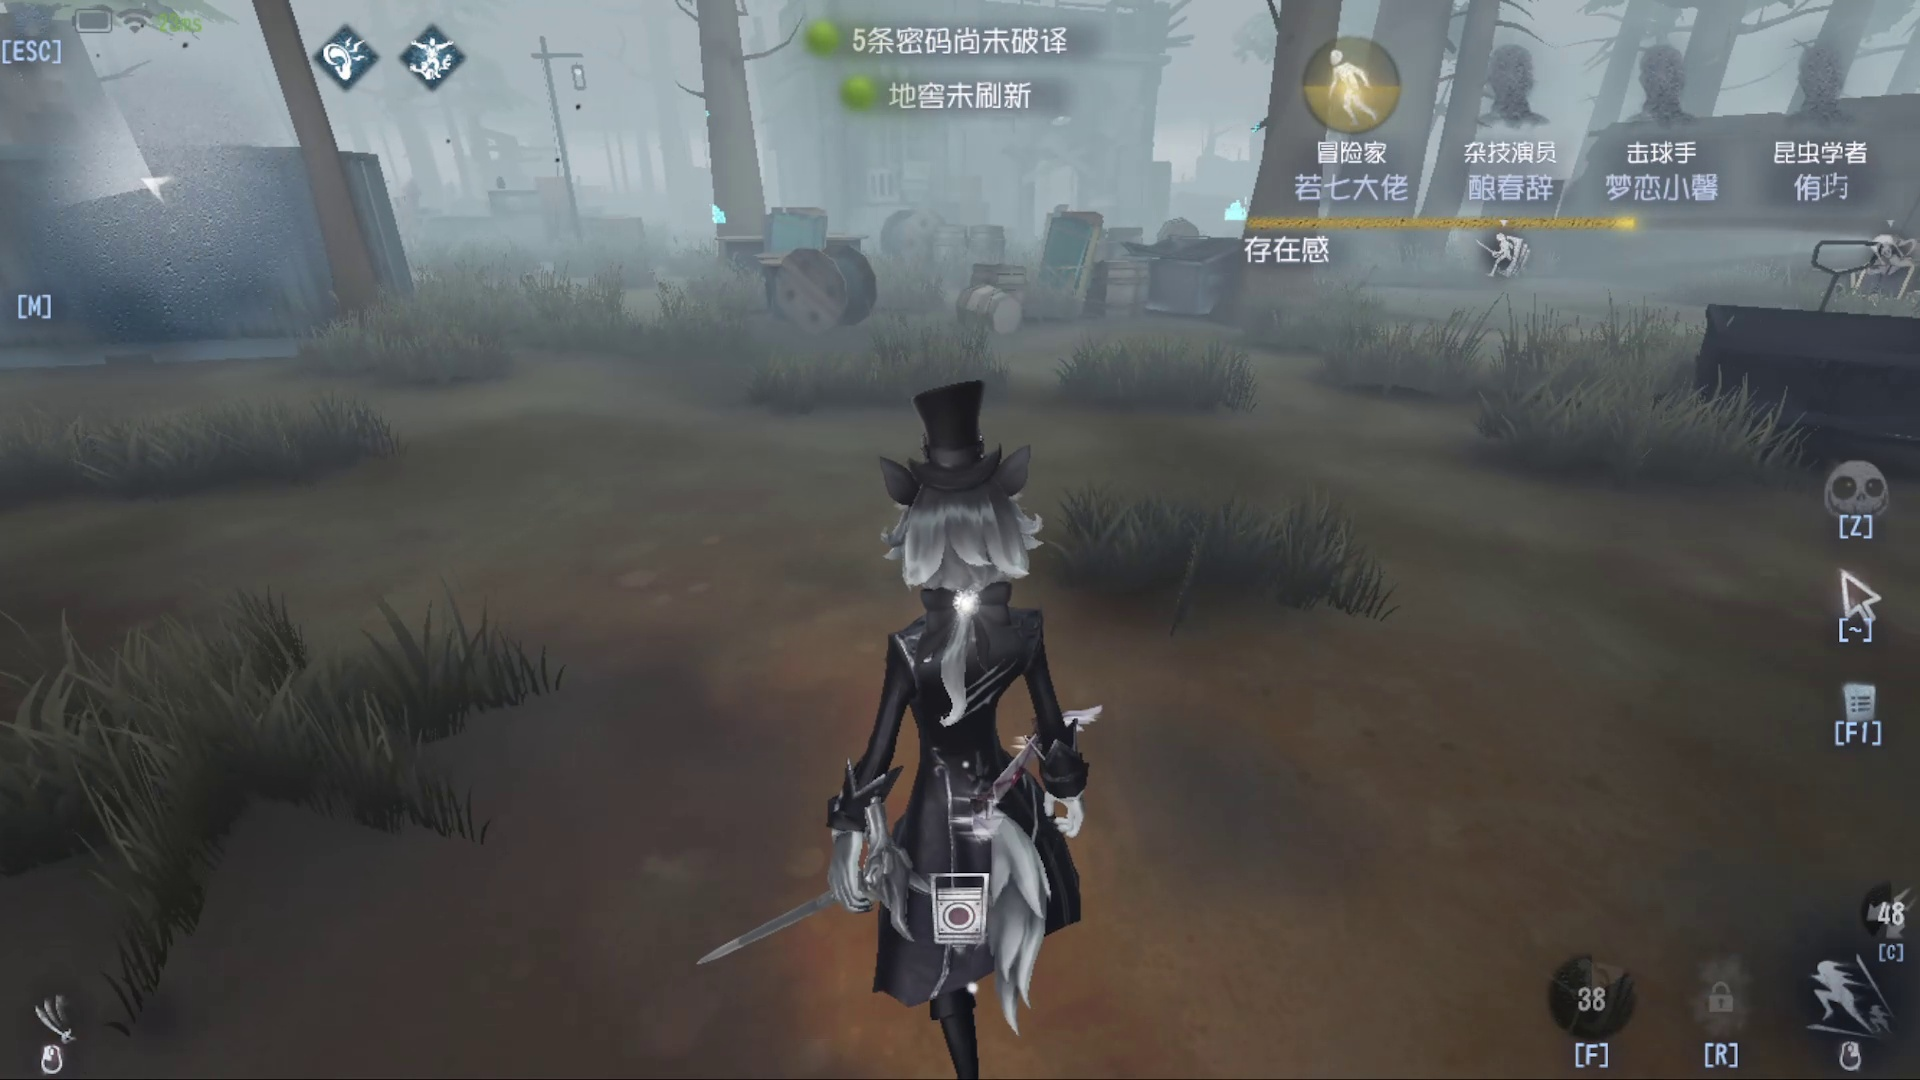木板: (1022, 204, 1124, 328), (758, 198, 837, 274)
求生者: (694, 107, 740, 225)
